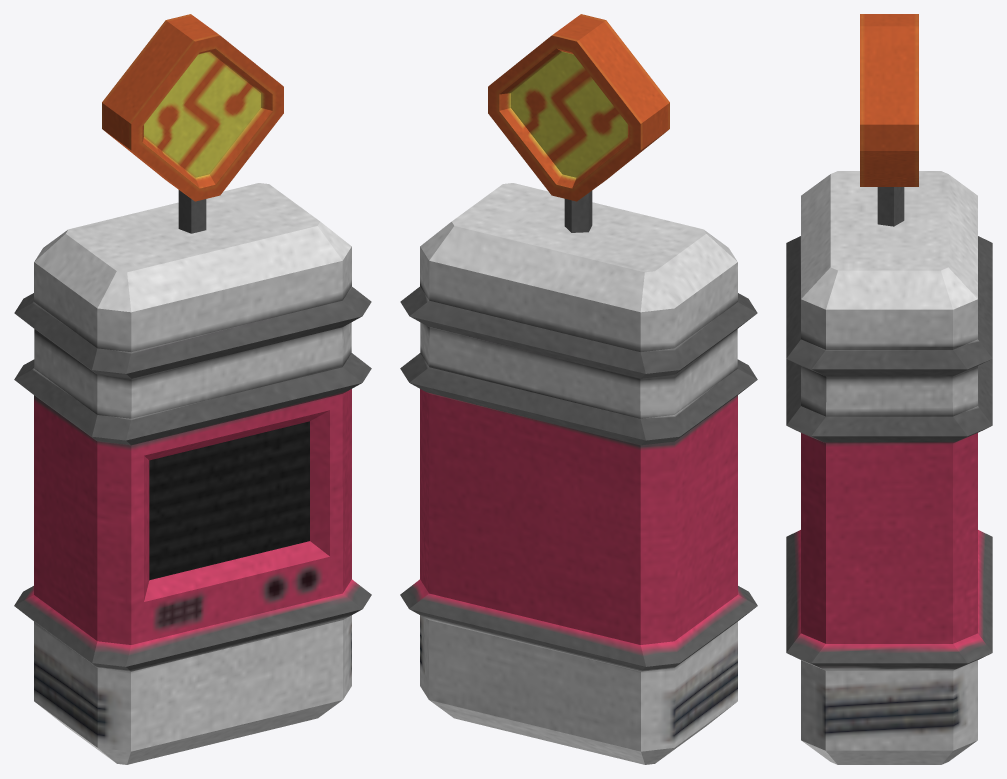
The model's file is Y_fridge.fbx.
3 renders of one model, left to right at view 1: azimuth 30°, elevation 25°; view 2: azimuth 150°, elevation 25°; view 3: azimuth 270°, elevation 25°, orthographic.
Parts seen in each view (by area): view 1: Y_fridge, Y_sign; view 2: Y_fridge, Y_sign; view 3: Y_fridge, Y_sign.
Boxes of the visible parts, x1,y1,x2,y2 form: Y_fridge: [14, 183, 371, 764]; Y_sign: [102, 14, 283, 233]; Y_fridge: [400, 183, 757, 764]; Y_sign: [488, 14, 669, 232]; Y_fridge: [786, 171, 992, 764]; Y_sign: [860, 14, 918, 226].
Size of the model in its own units: 22 by 52.01 by 14.
